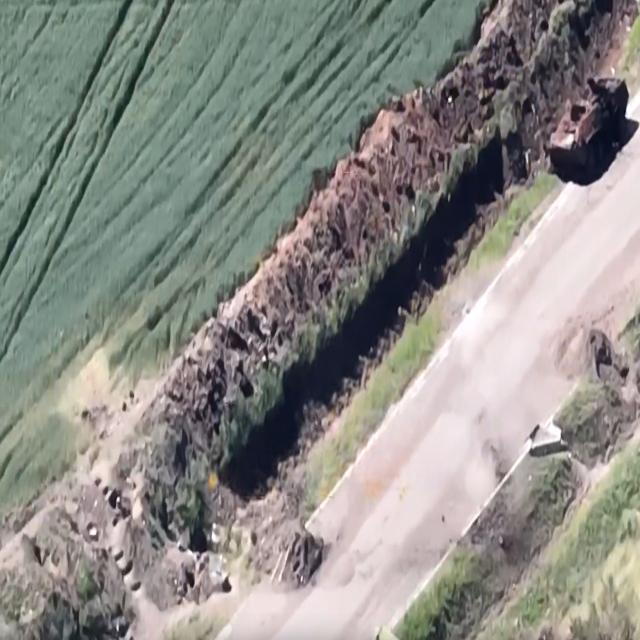Destroyed: (542, 72, 633, 185)
